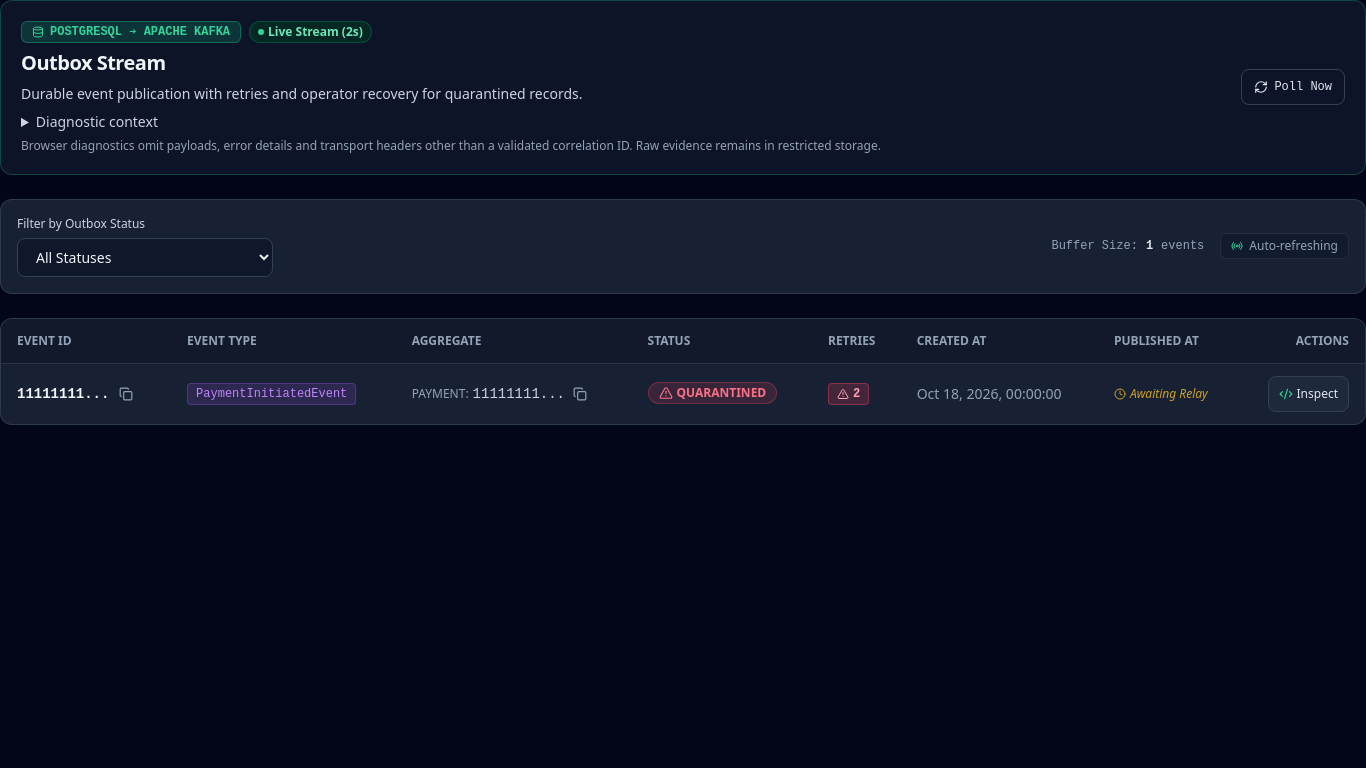
Test case: browser diagnostic privacy presentation › describes omitted outbox evidence while retaining quarantine and retry status
Click the button "Inspect": (1308, 394) [1268,376,1349,412]
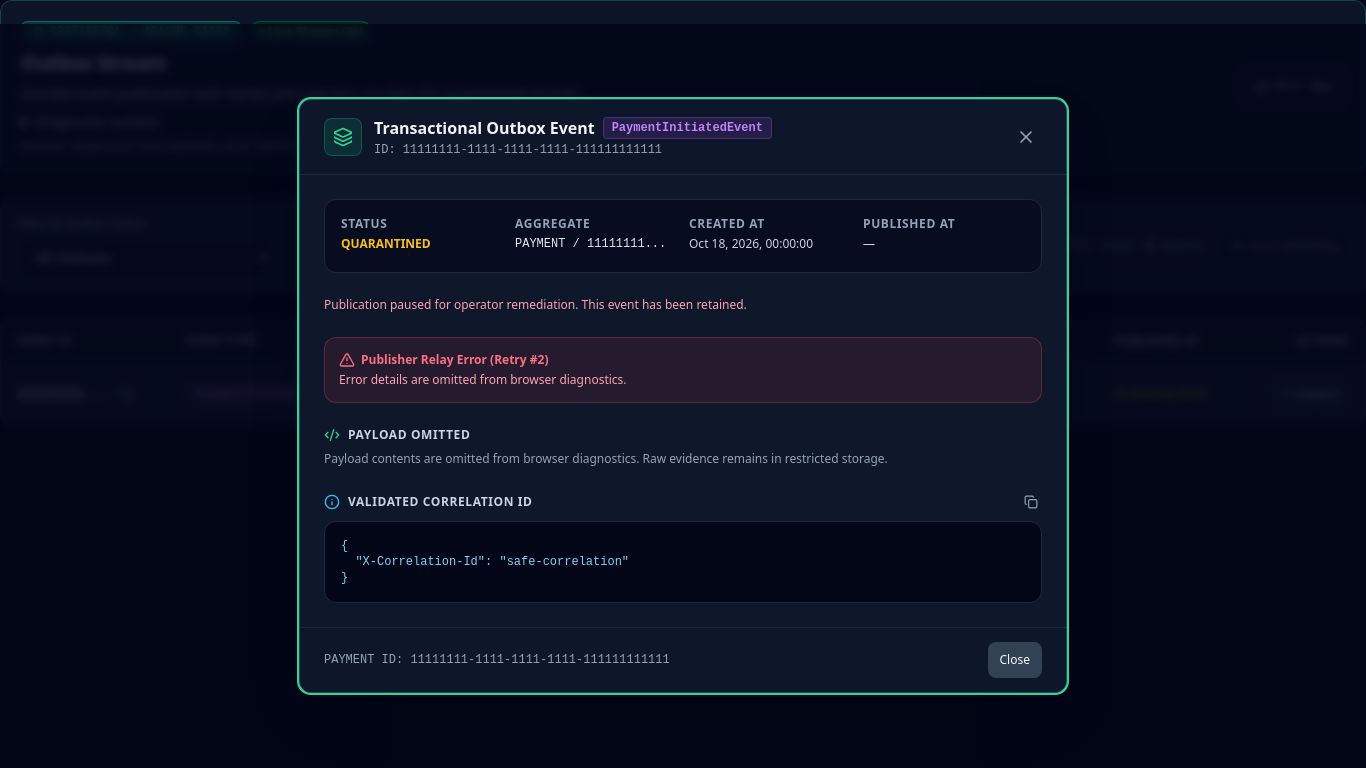
expect the heading "Payload Omitted" is shown: met, box [348,427,470,443]
expect the text "Error details are omitted from browser diagnostics." is shown: met, box [339,371,626,388]
expect the text "Publisher Relay Error (Retry #2)" is shown: met, box [361,352,548,368]
